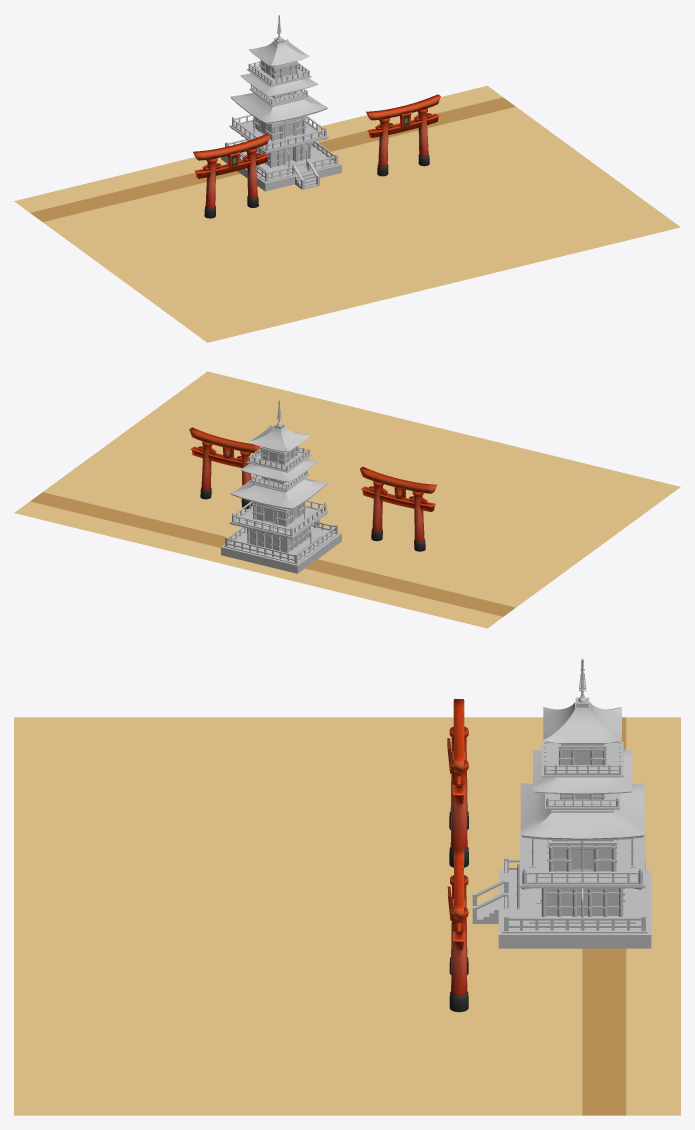
Rendered from Japan.fbx.
3 renders of one model, top to bottom at view 1: azimuth 30°, elevation 25°; view 2: azimuth 150°, elevation 25°; view 3: azimuth 270°, elevation 25°, orthographic. The views are drawn at different scales.
Parts seen in each view (by area): view 1: Plane, Japanese_Shrine, Torii_G1_partsA, Torii_G1_partsA.001; view 2: Plane, Japanese_Shrine, Torii_G1_partsA, Torii_G1_partsA.001; view 3: Plane, Japanese_Shrine, Torii_G1_partsA, Torii_G1_partsA.001.
Boxes of the visible parts, x1,y1,x2,y2 form: Plane: (14, 85, 680, 342); Japanese_Shrine: (221, 15, 341, 191); Torii_G1_partsA: (193, 133, 270, 218); Torii_G1_partsA.001: (366, 94, 440, 176); Plane: (14, 371, 680, 628); Japanese_Shrine: (221, 400, 341, 573); Torii_G1_partsA: (360, 466, 436, 551); Torii_G1_partsA.001: (189, 427, 260, 509); Plane: (14, 717, 680, 1115); Japanese_Shrine: (472, 658, 651, 948); Torii_G1_partsA: (447, 699, 468, 867); Torii_G1_partsA.001: (447, 848, 468, 1012).
Size of the model in its own units: 3983 by 1210 by 2820.
